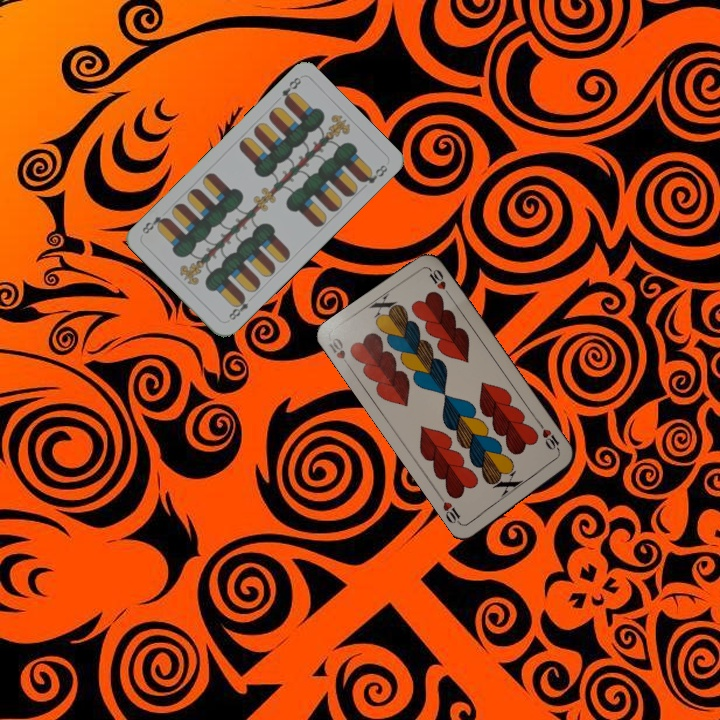E8: (278, 73, 304, 107), (225, 292, 251, 323)
H10: (324, 334, 354, 372), (535, 420, 563, 456)
